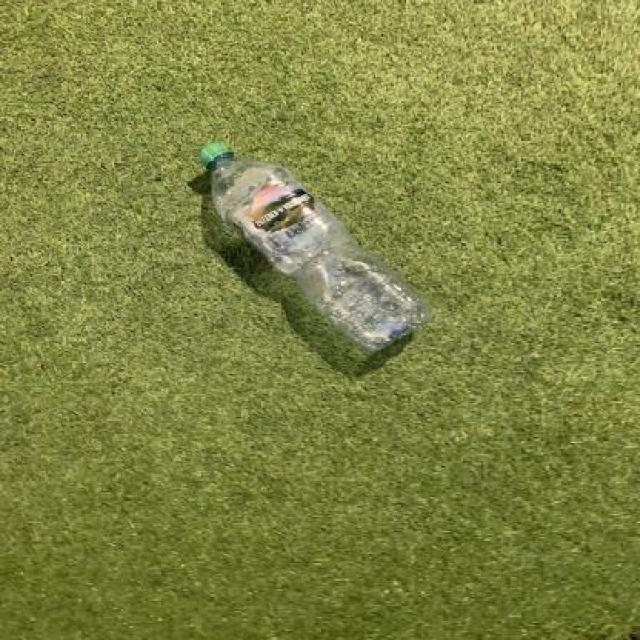trash: (198, 141, 440, 359)
